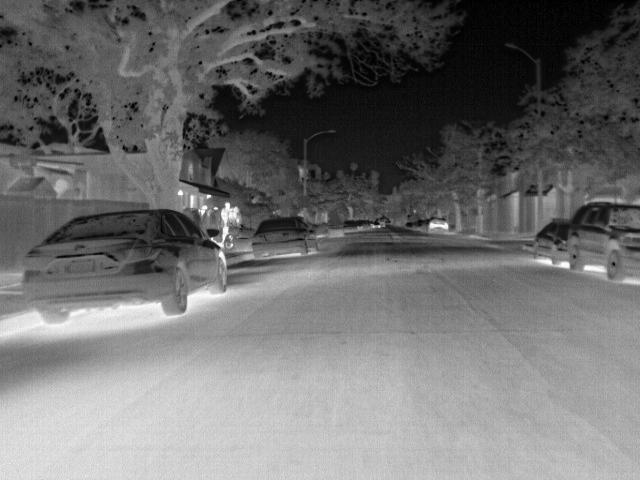car: (18, 208, 229, 326), (569, 201, 640, 283), (250, 214, 319, 260), (535, 220, 573, 268), (426, 216, 452, 232), (342, 220, 359, 234)
person: (219, 202, 235, 250)
